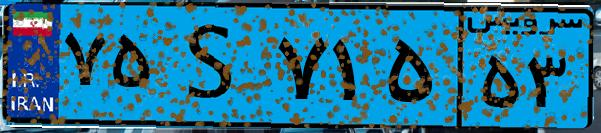1: (330, 28, 385, 110)
3: (525, 38, 570, 115)
5: (385, 28, 445, 110), (475, 38, 525, 113), (110, 28, 158, 98)
7: (270, 28, 330, 110), (57, 26, 110, 100)
S: (158, 12, 270, 120)
